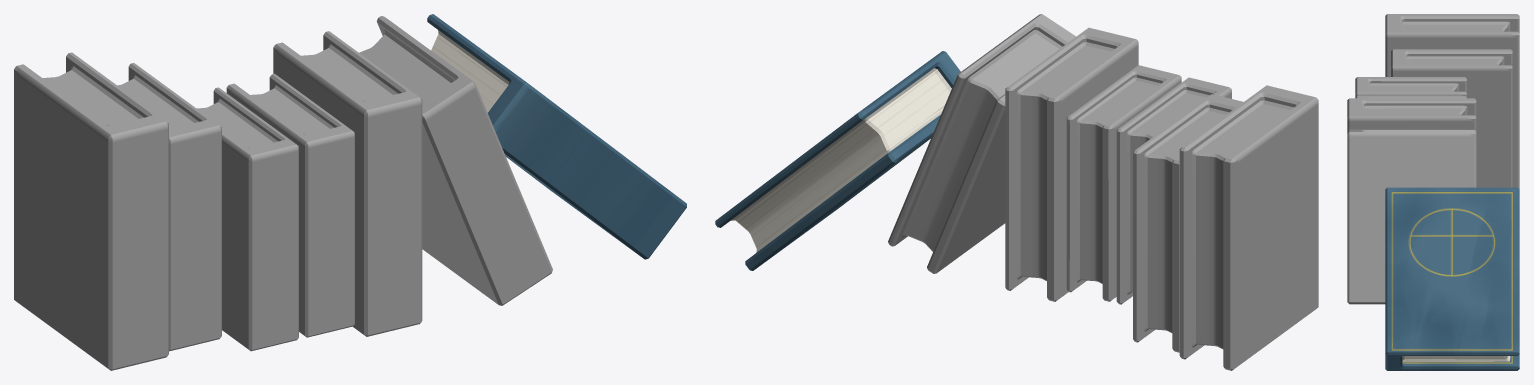
The model's file is Bookset.fbx.
3 renders of one model, left to right at view 1: azimuth 30°, elevation 25°; view 2: azimuth 150°, elevation 25°; view 3: azimuth 270°, elevation 25°, orthographic. The views are drawn at different scales.
Visible parts, largest first — view 1: pCube4, pCube10, pCube9, pCube11, pCube6, pCube8, pCube5; view 2: pCube4, pCube10, pCube9, pCube11, pCube8, pCube5, pCube6; view 3: pCube11, pCube10, pCube5, pCube4, pCube9, pCube6, pCube8.
Part boxes in pixels (left/top/right/bottom): pCube4: left=14, top=52, right=168, bottom=370; pCube10: left=359, top=16, right=552, bottom=305; pCube9: left=273, top=31, right=422, bottom=336; pCube11: left=427, top=14, right=686, bottom=259; pCube6: left=197, top=87, right=298, bottom=351; pCube8: left=226, top=73, right=354, bottom=337; pCube5: left=117, top=63, right=221, bottom=351; pCube4: left=1179, top=85, right=1318, bottom=370; pCube10: left=888, top=14, right=1076, bottom=273; pCube9: left=1005, top=27, right=1138, bottom=301; pCube11: left=715, top=51, right=960, bottom=270; pCube8: left=1066, top=65, right=1181, bottom=301; pCube5: left=1133, top=94, right=1243, bottom=352; pCube6: left=1116, top=77, right=1231, bottom=304; pCube11: left=1385, top=187, right=1519, bottom=370; pCube10: left=1347, top=129, right=1476, bottom=304; pCube5: left=1391, top=49, right=1512, bottom=187; pCube4: left=1385, top=14, right=1519, bottom=188; pCube9: left=1347, top=98, right=1476, bottom=130; pCube6: left=1355, top=77, right=1466, bottom=96; pCube8: left=1355, top=96, right=1466, bottom=98.
Bounding box in the file's own units: 2.88 × 1.21 × 1.08.
